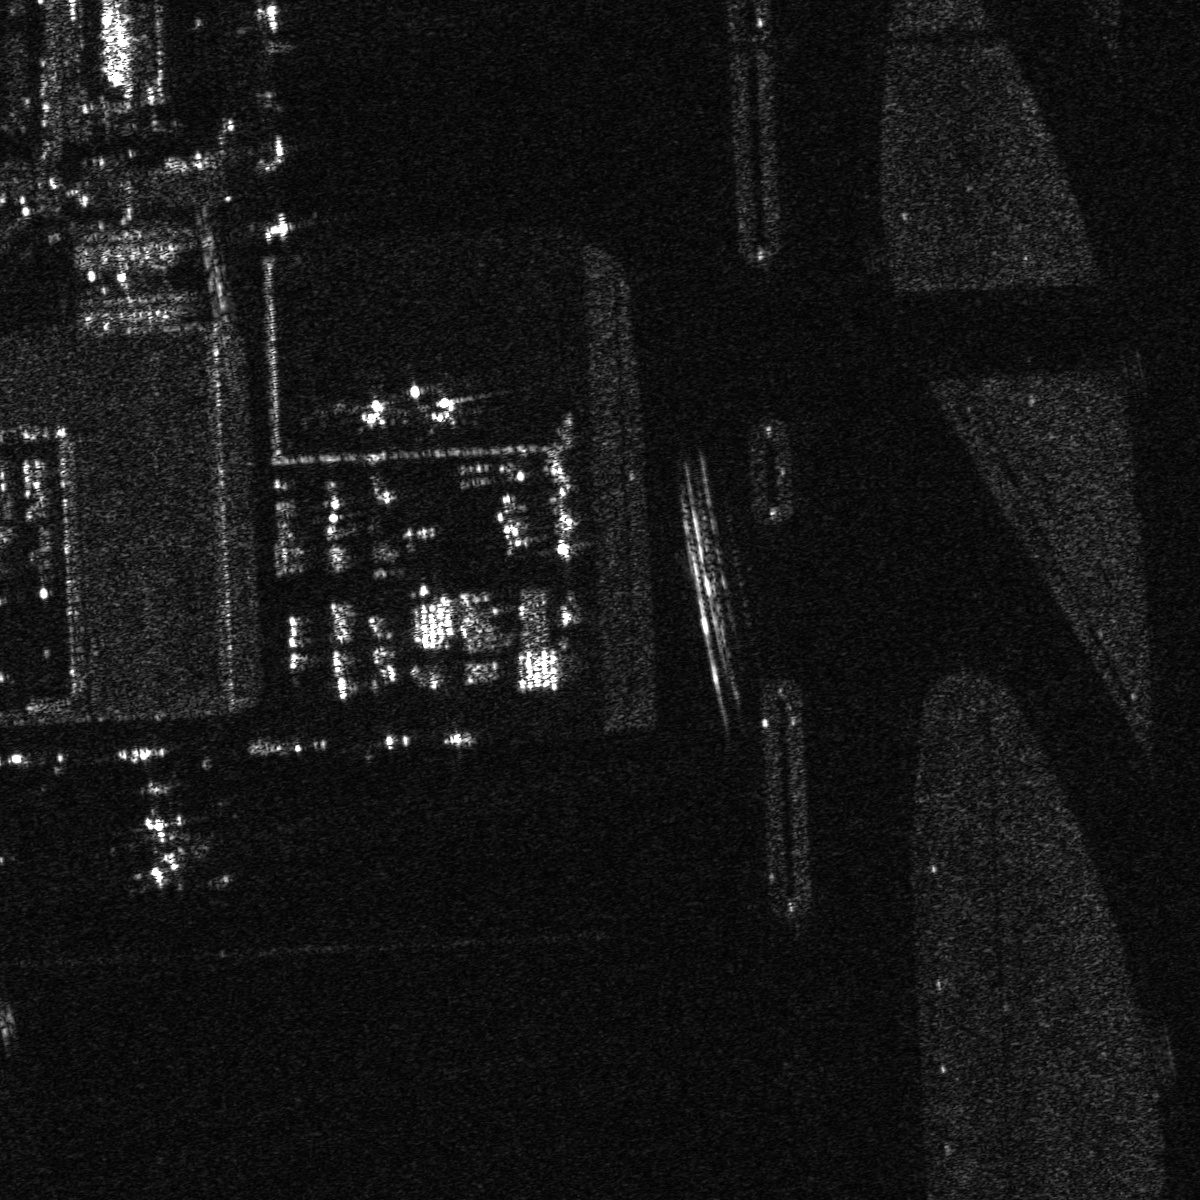ARJ21: (342, 379, 407, 436)
other: (120, 807, 215, 897), (412, 382, 484, 434)
